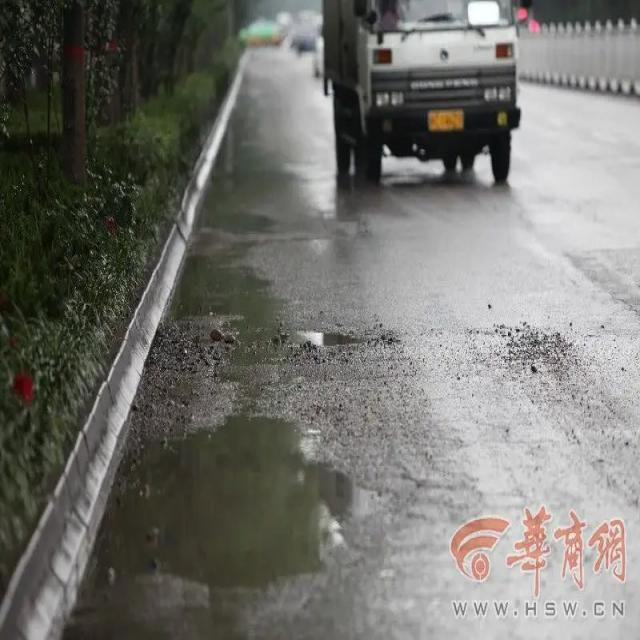Pothole: (146, 412, 372, 587), (292, 314, 400, 356)
